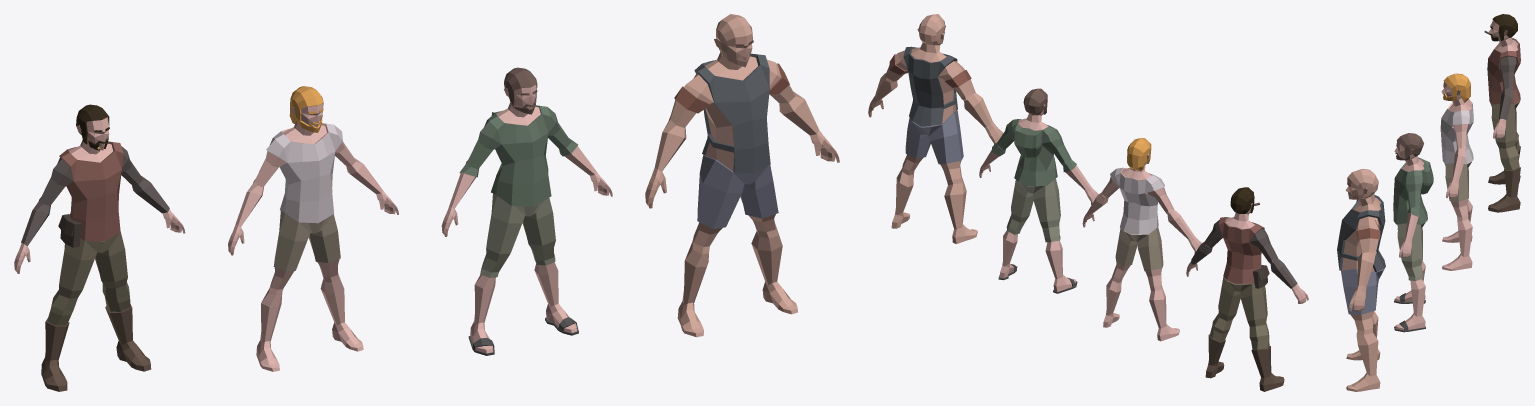
The picture shows the model from 3 angles, left to right: view 1: azimuth 30°, elevation 25°; view 2: azimuth 150°, elevation 25°; view 3: azimuth 270°, elevation 25°; orthographic projection. The views are drawn at different scales.
Visible parts, largest first — view 1: Gigante_1, Grenadier_2, Cube_3, Barbar_0; view 2: Gigante_1, Grenadier_2, Cube_3, Barbar_0; view 3: Gigante_1, Cube_3, Grenadier_2, Barbar_0.
Boxes of the visible parts, x1,y1,x2,y2 form: Gigante_1: [645, 14, 839, 337]; Grenadier_2: [14, 104, 185, 391]; Cube_3: [441, 67, 612, 355]; Barbar_0: [228, 86, 398, 371]; Gigante_1: [868, 14, 1003, 243]; Grenadier_2: [1186, 187, 1308, 391]; Cube_3: [979, 88, 1098, 293]; Barbar_0: [1082, 138, 1201, 341]; Gigante_1: [1337, 169, 1385, 391]; Cube_3: [1393, 133, 1433, 332]; Grenadier_2: [1484, 14, 1520, 212]; Barbar_0: [1440, 73, 1473, 270].
Size of the model in its own units: 5.48 by 2.21 by 1.79.
4 materials, 4 textured.
